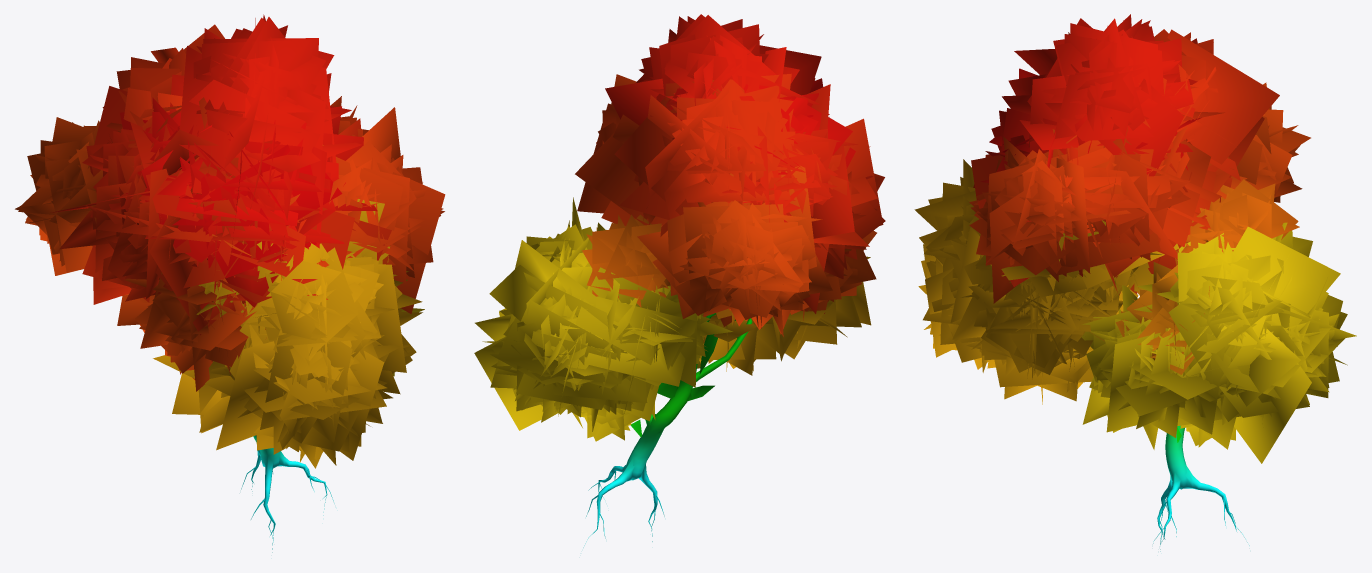
The model's file is Maple6.fbx.
3 renders of one model, left to right at view 1: azimuth 30°, elevation 25°; view 2: azimuth 150°, elevation 25°; view 3: azimuth 270°, elevation 25°, orthographic. The views are drawn at different scales.
Visible parts, largest first — view 1: Maple6_LOD0; view 2: Maple6_LOD0; view 3: Maple6_LOD0.
Boxes of the visible parts, x1,y1,x2,y2 form: Maple6_LOD0: (15, 14, 445, 552); Maple6_LOD0: (474, 14, 885, 547); Maple6_LOD0: (914, 14, 1356, 551).
Size of what is drawn, in the model's own units: 1577 by 2336 by 1791.
